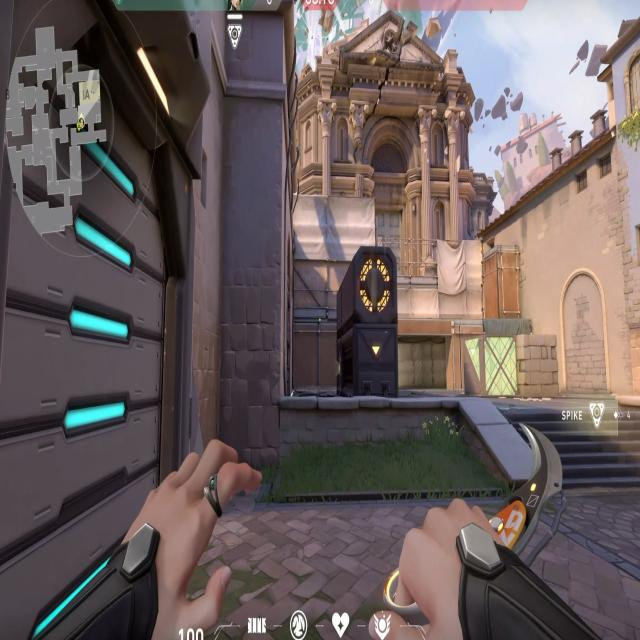A_Door: (18, 0, 185, 594)
A_Heaven_Box: (482, 251, 522, 319)
A_Heaven_Wall: (294, 197, 382, 316)
A_Hell: (399, 322, 463, 390)
A_Site_Box: (466, 337, 559, 397)
